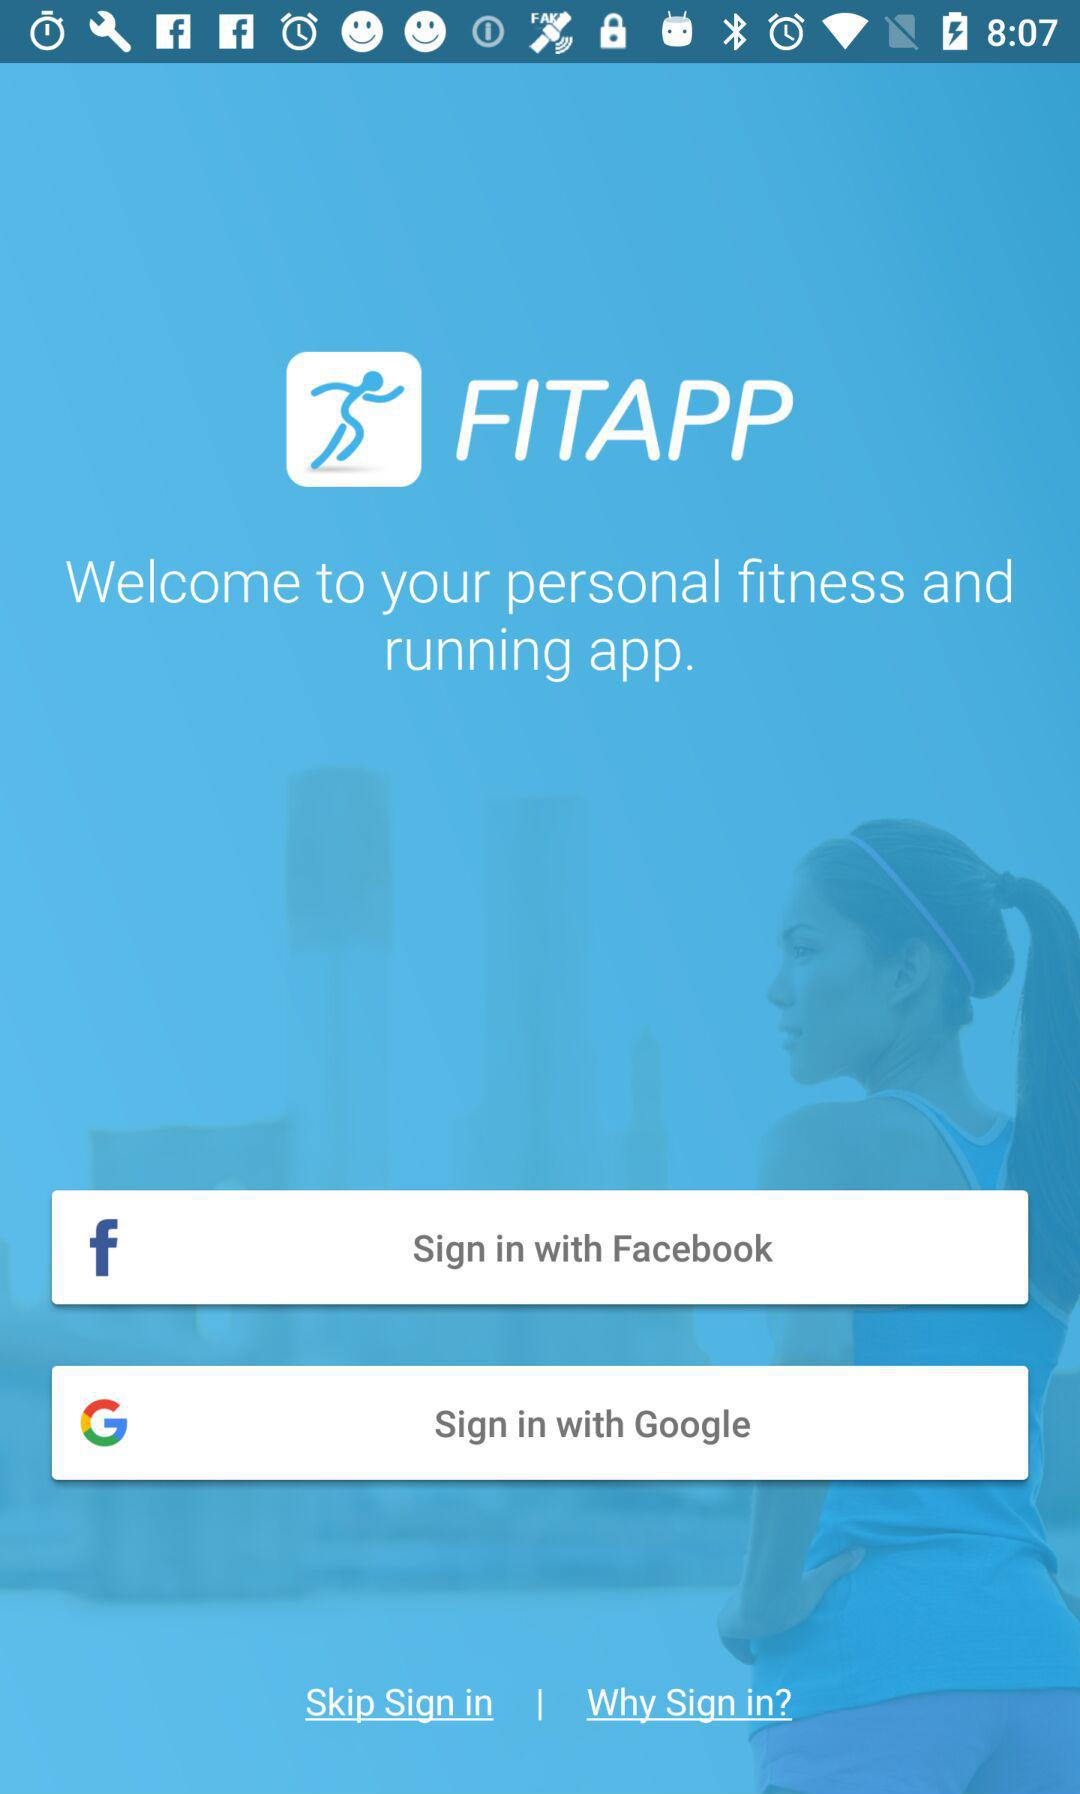BackgroundImage: (1, 64, 1079, 1794)
Image: (286, 352, 796, 490)
Text: (65, 557, 1013, 686), (585, 1686, 793, 1724), (304, 1686, 495, 1724)
TextButton: (53, 1190, 1029, 1306), (53, 1366, 1029, 1481)
UpperTaskBar: (1, 1, 1080, 64)
